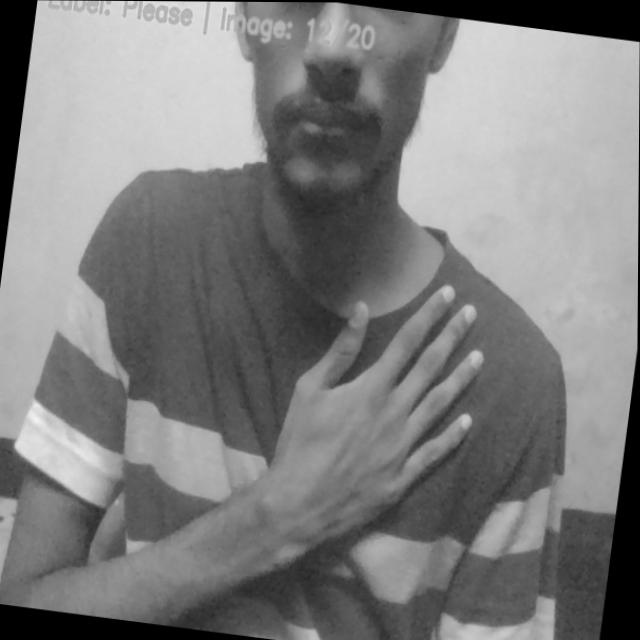Please: (242, 260, 493, 597)
